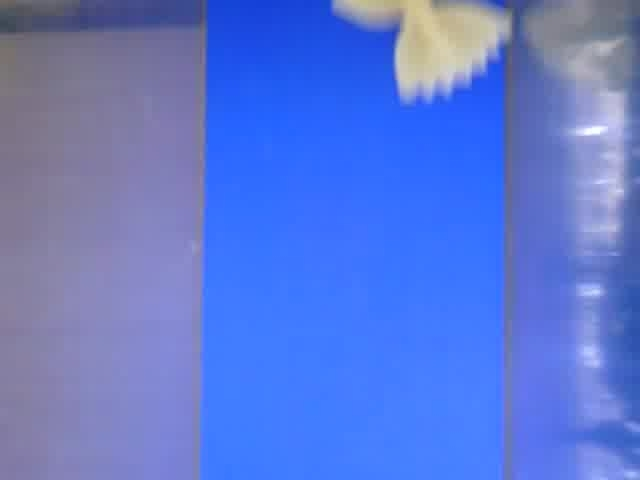farfalle: (331, 1, 508, 104)
